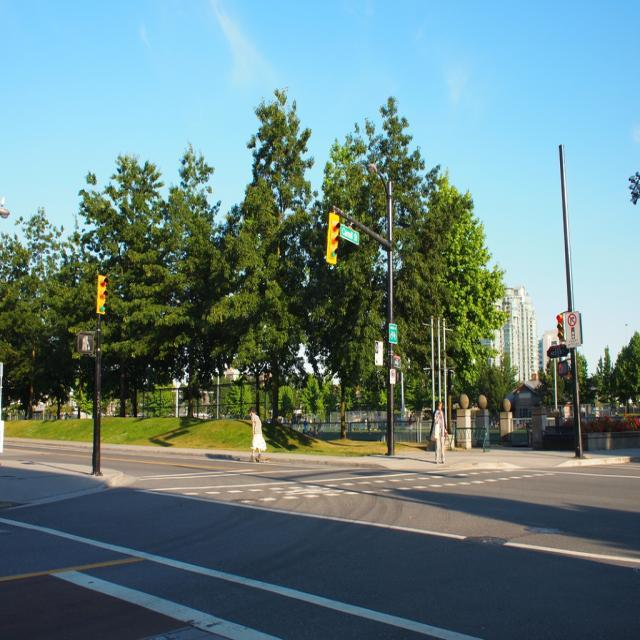traffic light: (327, 211, 342, 264), (95, 271, 111, 318)
